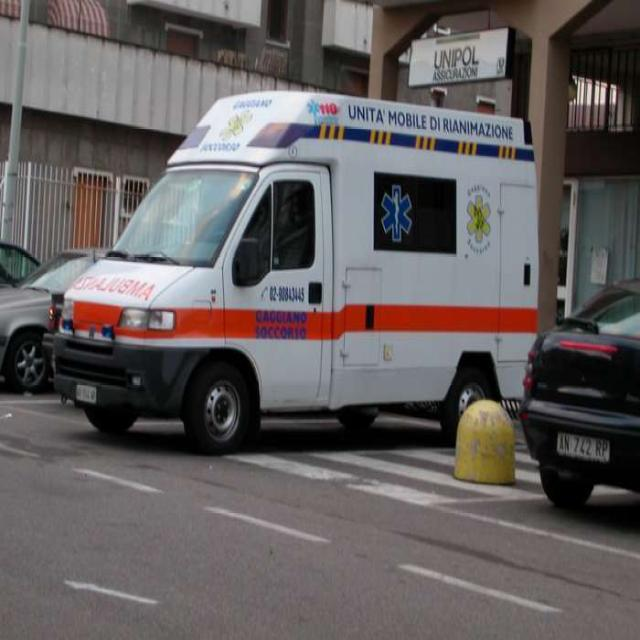emergency-vehicle: (55, 88, 541, 451)
